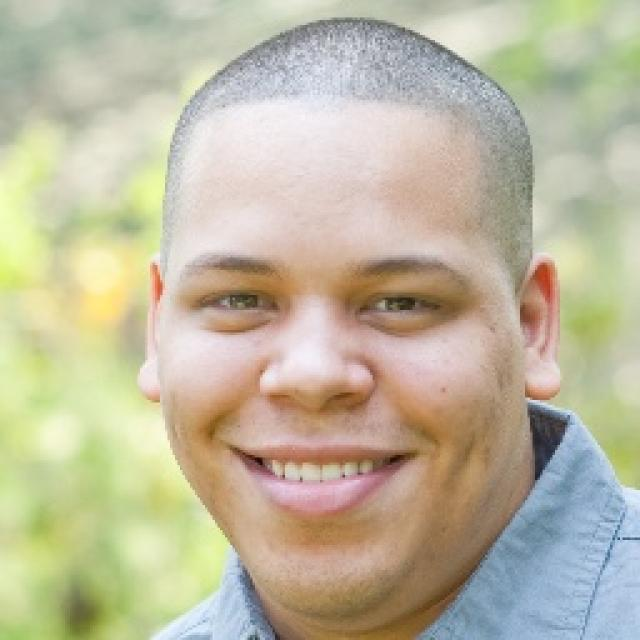earlobe: (522, 350, 562, 403), (135, 358, 164, 402)
eye: (365, 289, 445, 323), (202, 285, 274, 321)
nose: (261, 392, 371, 441)
wholeear: (520, 254, 563, 402), (135, 257, 162, 402)
